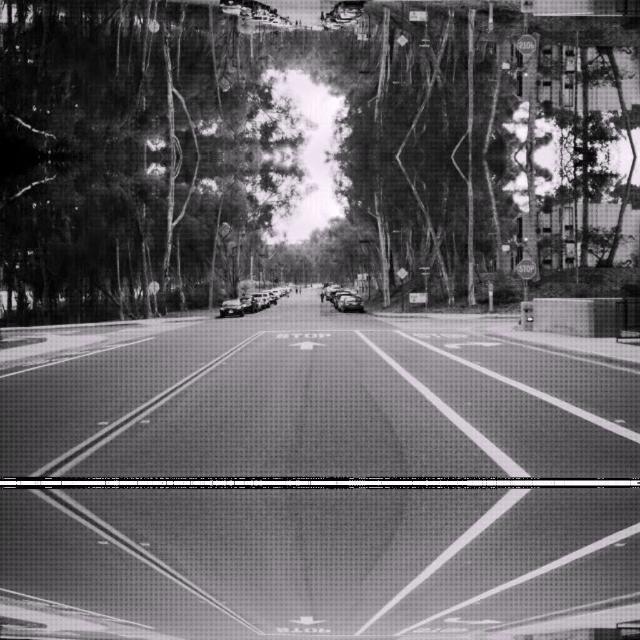stop: (516, 256, 536, 278), (516, 34, 536, 56)
